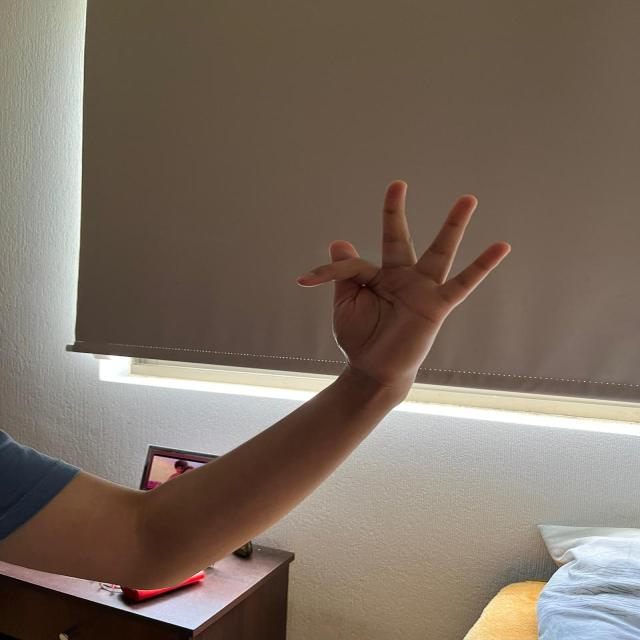F: (299, 175, 512, 386)
